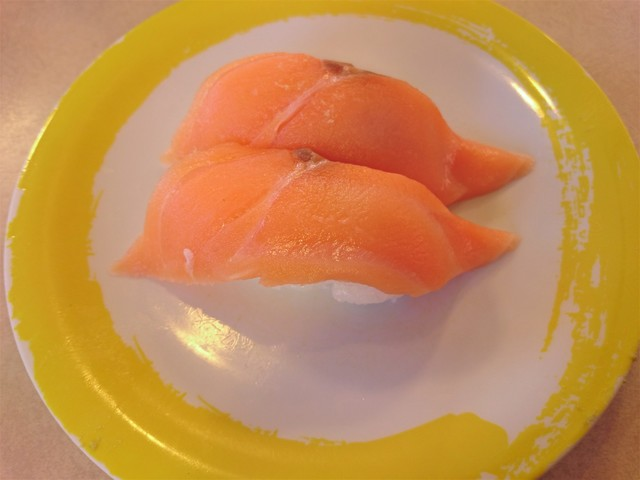salmon: (119, 148, 526, 315)
